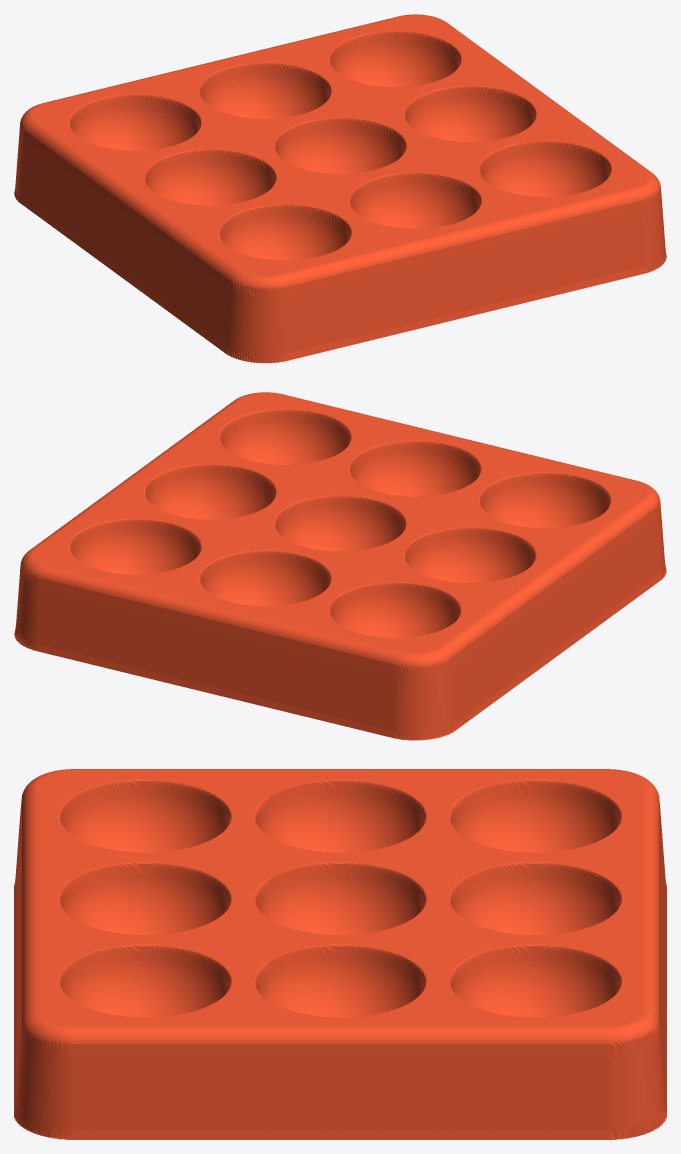
The model's file is mold.glb.
3 renders of one model, top to bottom at view 1: azimuth 30°, elevation 25°; view 2: azimuth 150°, elevation 25°; view 3: azimuth 270°, elevation 25°, orthographic. The views are drawn at different scales.
Visible parts, largest first — view 1: geometry_0; view 2: geometry_0; view 3: geometry_0.
Part boxes in pixels (bbox=[...]): geometry_0: bbox=[14, 14, 666, 363]; geometry_0: bbox=[14, 392, 666, 740]; geometry_0: bbox=[14, 769, 666, 1139].
Size of the model in its own units: 0.0984 by 0.0172 by 0.0984.
